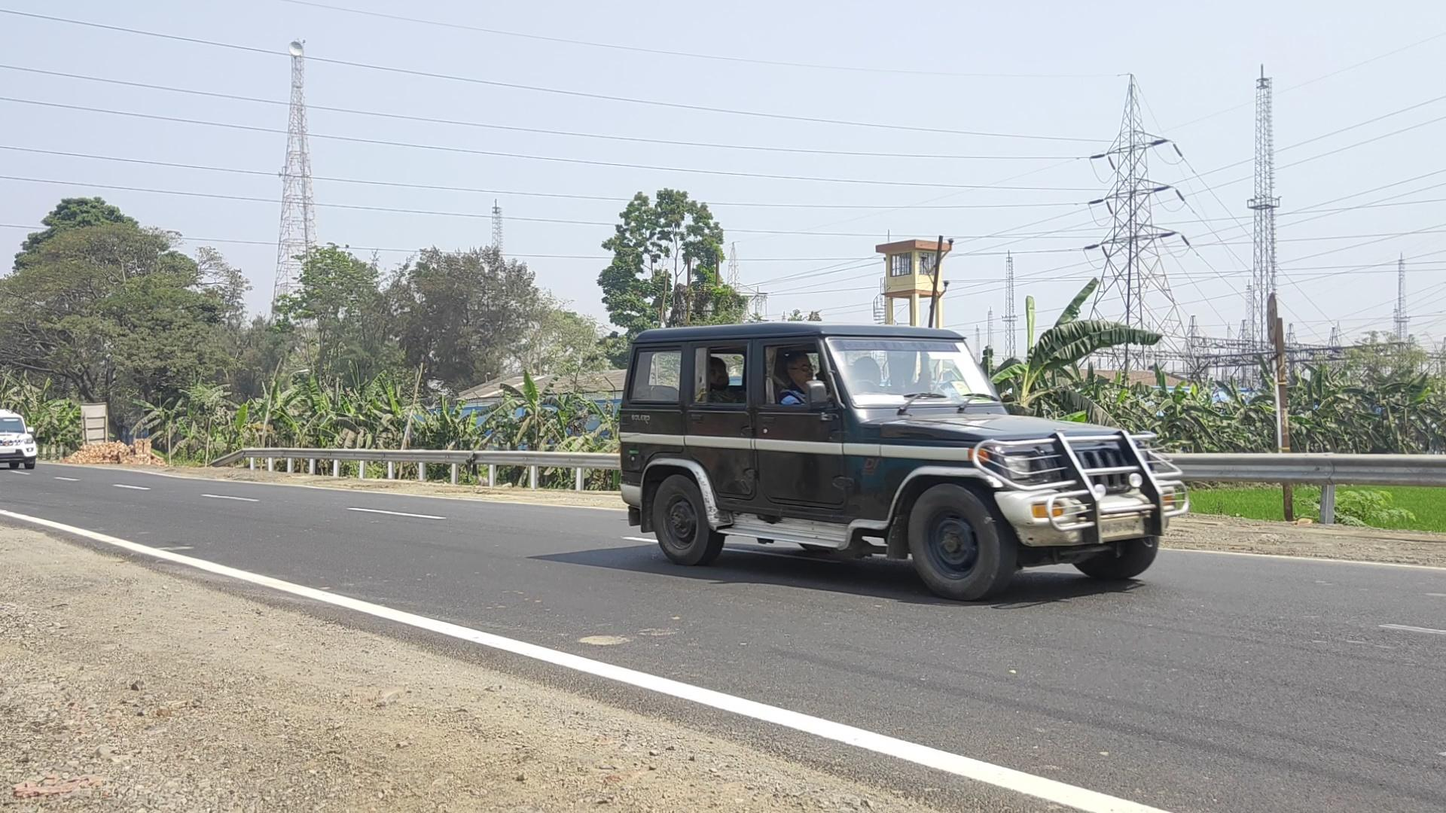car: (619, 320, 1191, 602), (1, 410, 38, 471)
